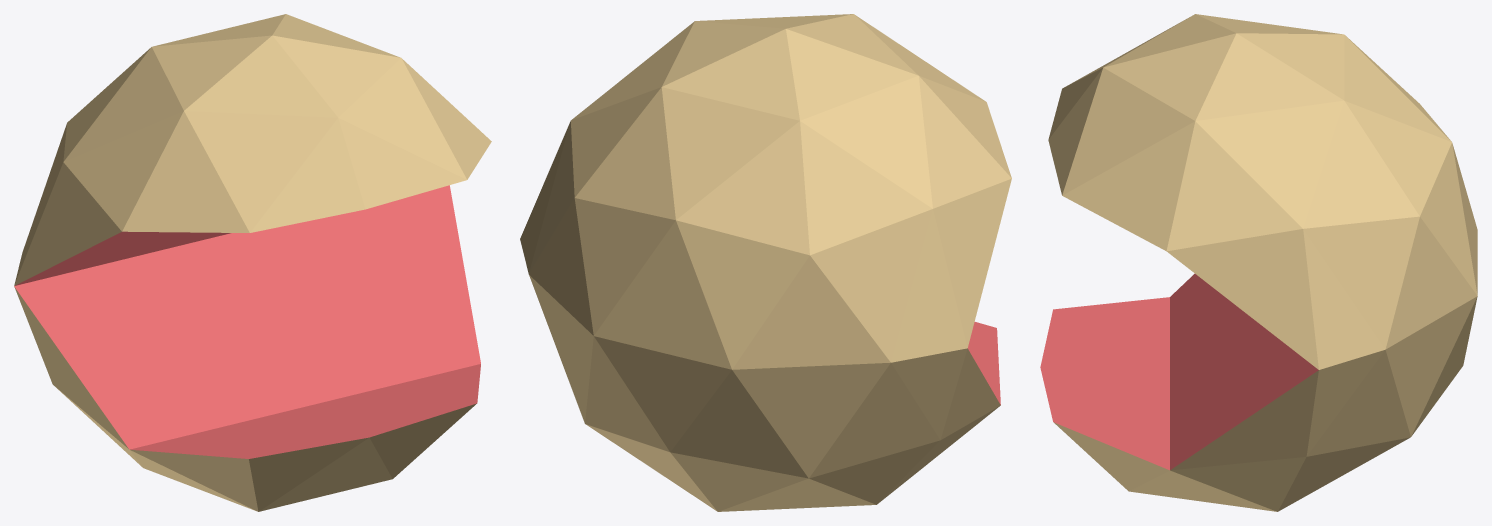
File: 吃豆船.fbx
3 renders of one model, left to right at view 1: azimuth 30°, elevation 25°; view 2: azimuth 150°, elevation 25°; view 3: azimuth 270°, elevation 25°, orthographic. The views are drawn at different scales.
Visible parts, largest first — view 1: Icosphere; view 2: Icosphere; view 3: Icosphere.
Part boxes in pixels (x1=…): Icosphere: x1=14, y1=14, x2=491, y2=511; Icosphere: x1=520, y1=14, x2=1011, y2=511; Icosphere: x1=1040, y1=14, x2=1477, y2=511.
Bounding box in the file's own units: 200 × 200 × 173.
